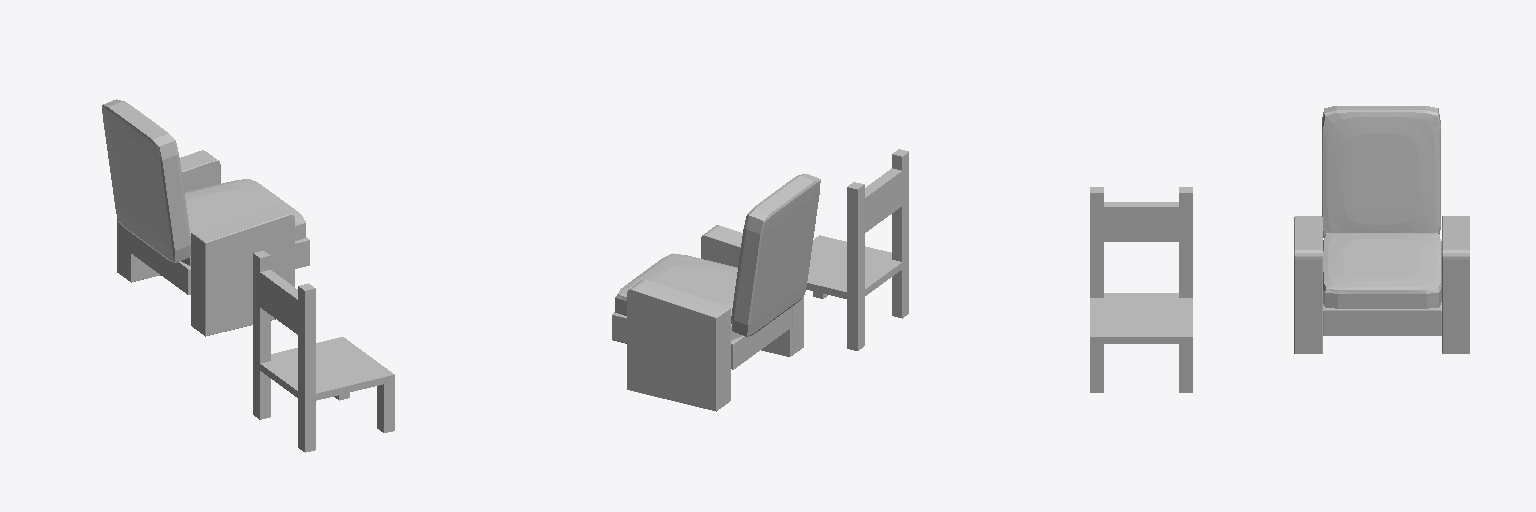
The model's file is mueble.obj.
3 views of the same model, side by side, from view 1: azimuth 30°, elevation 25°; view 2: azimuth 150°, elevation 25°; view 3: azimuth 270°, elevation 25° (orthographic).
Parts seen in each view (by area): view 1: Chair_Cube, Cube.004_Cube.005, Cube.001_Cube.002, Cube.003_Cube.004, Cube.002_Cube.003, Cube_Cube.001; view 2: Cube.002_Cube.003, Chair_Cube, Cube.004_Cube.005, Cube.003_Cube.004, Cube.001_Cube.002, Cube_Cube.001; view 3: Cube.004_Cube.005, Chair_Cube, Cube.003_Cube.004, Cube.001_Cube.002, Cube.002_Cube.003, Cube_Cube.001.
Part boxes in pixels (x1,y1,x2,y2): Chair_Cube: (253, 251, 394, 452); Cube.004_Cube.005: (102, 99, 190, 262); Cube.001_Cube.002: (191, 204, 294, 336); Cube.003_Cube.004: (181, 179, 305, 265); Cube.002_Cube.003: (117, 150, 220, 282); Cube_Cube.001: (129, 232, 309, 294); Cube.002_Cube.003: (627, 279, 730, 411); Chair_Cube: (806, 149, 908, 350); Cube.004_Cube.005: (731, 174, 820, 336); Cube.003_Cube.004: (615, 253, 741, 340); Cube.001_Cube.002: (701, 225, 803, 356); Cube_Cube.001: (612, 306, 792, 369); Cube.004_Cube.005: (1322, 106, 1440, 237); Chair_Cube: (1090, 187, 1192, 392); Cube.003_Cube.004: (1323, 233, 1441, 308); Cube.001_Cube.002: (1294, 216, 1322, 353); Cube.002_Cube.003: (1442, 216, 1469, 353); Cube_Cube.001: (1323, 302, 1441, 335).
Bounding box in the file's own units: 3.36 × 4.93 × 7.34.